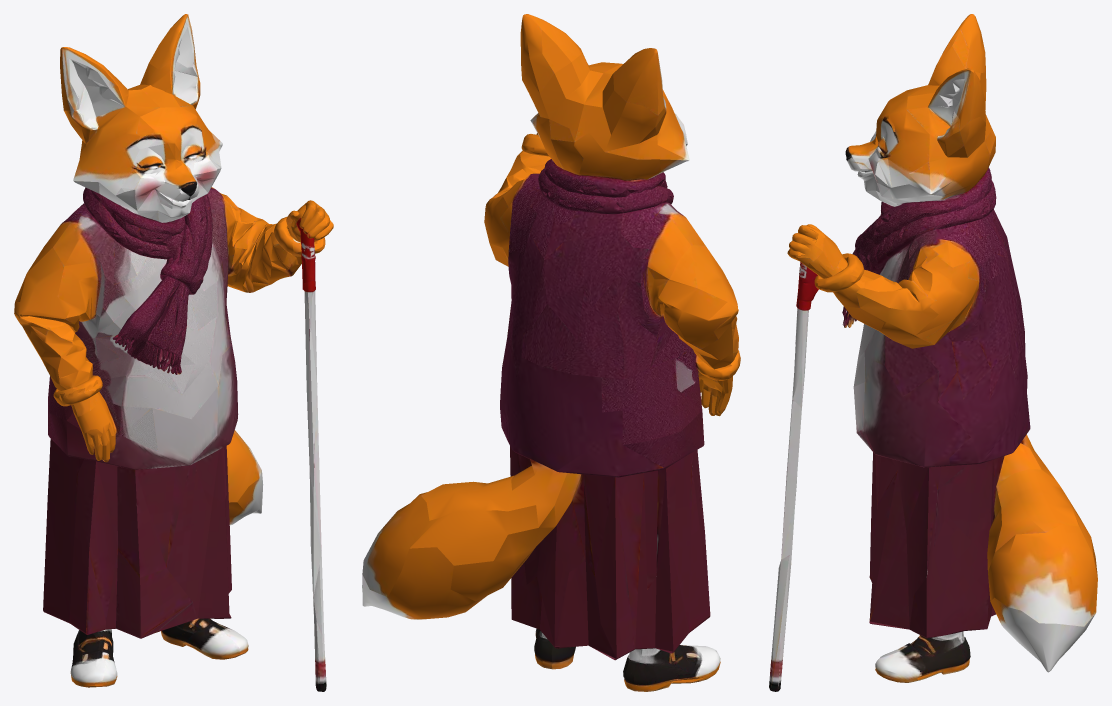
The model's file is vivian.glb.
The picture shows the model from 3 angles, left to right: view 1: azimuth 30°, elevation 25°; view 2: azimuth 150°, elevation 25°; view 3: azimuth 270°, elevation 25°; orthographic projection. The views are drawn at different scales.
Size of the model in its own units: 0.9684 by 1.9 by 0.9391.
Materials: 1 (1 with a texture image).
